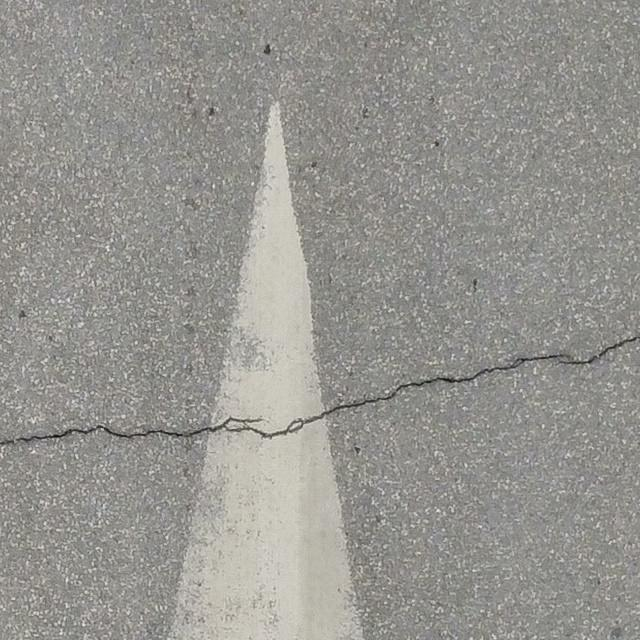TransverseCrack: (1, 336, 640, 446)
